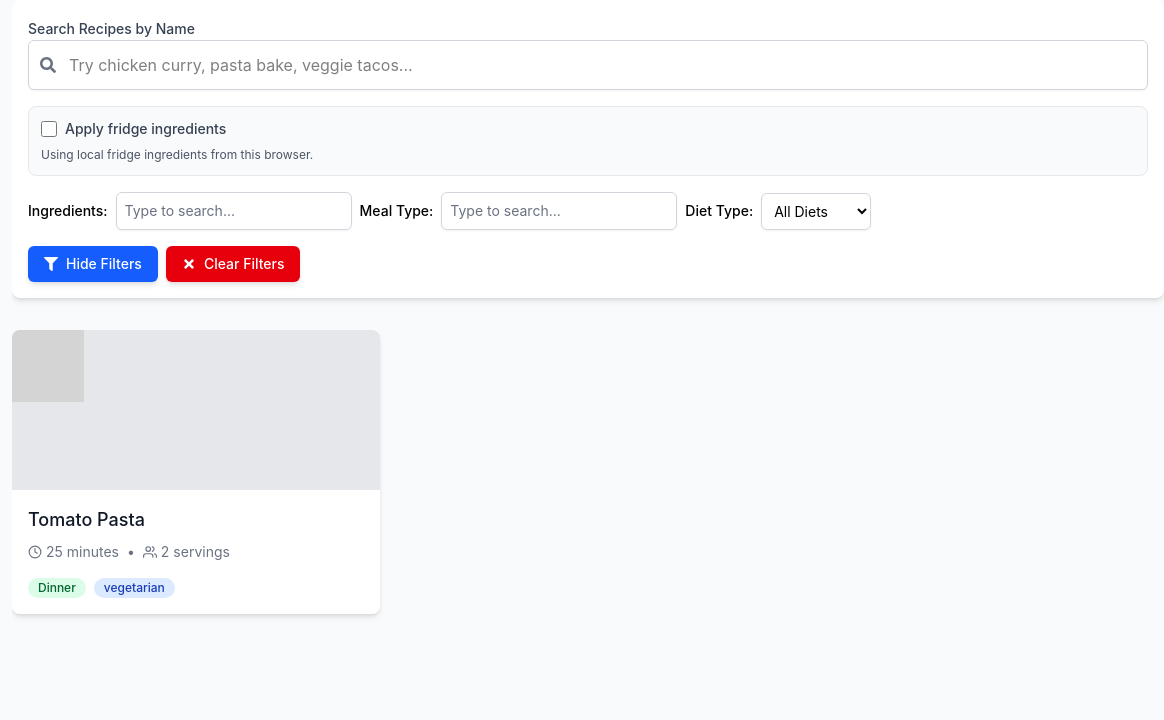
Scenario: recipe discovery workflow › fetches recipes once on load and does not refetch when applying local fridge ingredients
Expected: the heading "Tomato Pasta" is shown, [28, 506, 145, 534]
Click the checkbox labelled "Apply fridge ingredients" at (49, 129), box [41, 121, 57, 137]
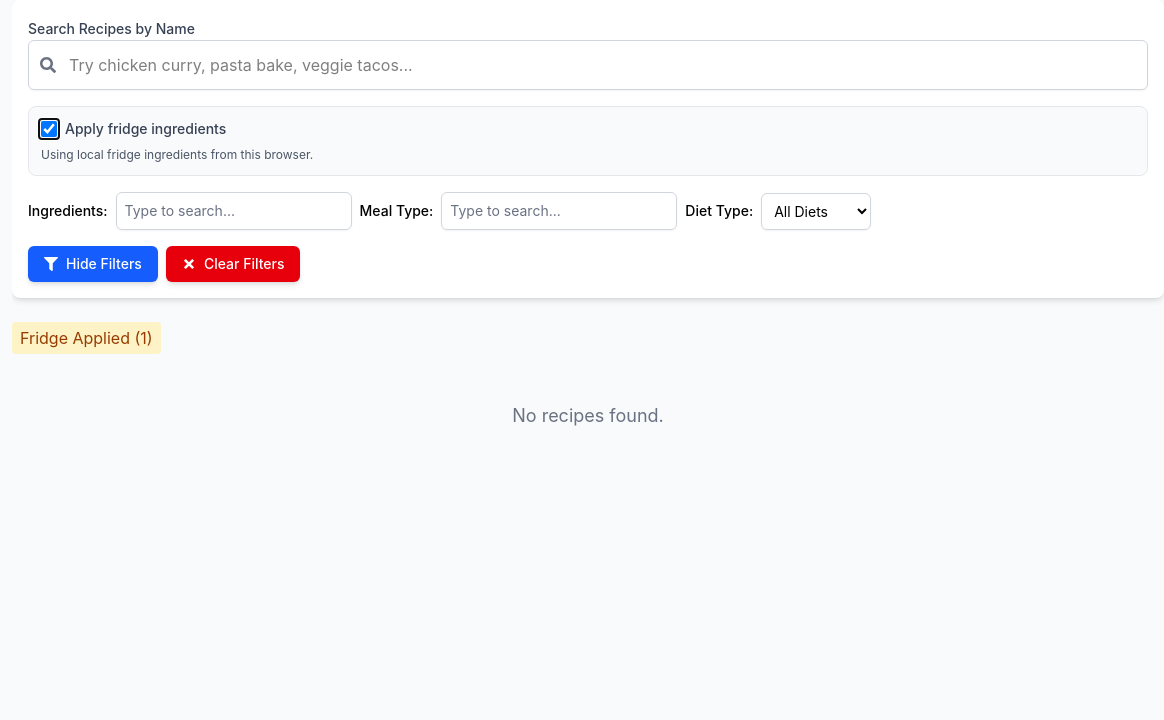
Now the text "No recipes found." is shown, box [512, 405, 664, 426]
Click the checkbox labelled "Apply fridge ingredients" at (49, 129), box [41, 121, 57, 137]
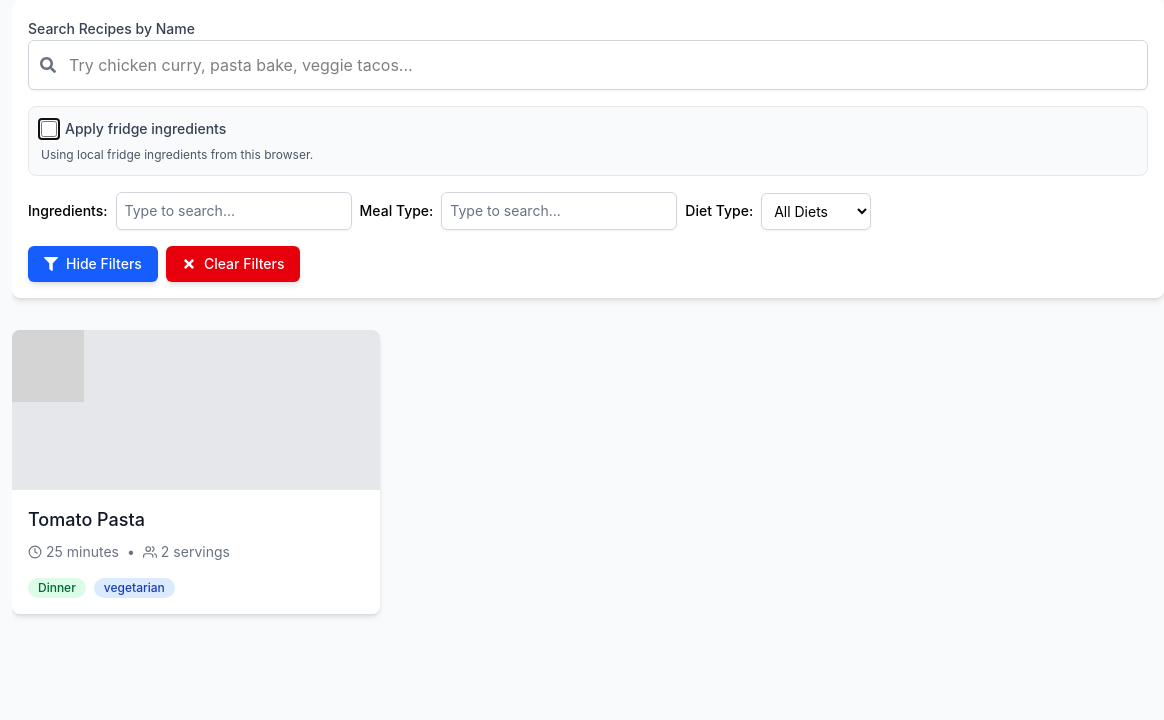
Now the heading "Tomato Pasta" is shown, box [28, 506, 145, 534]
